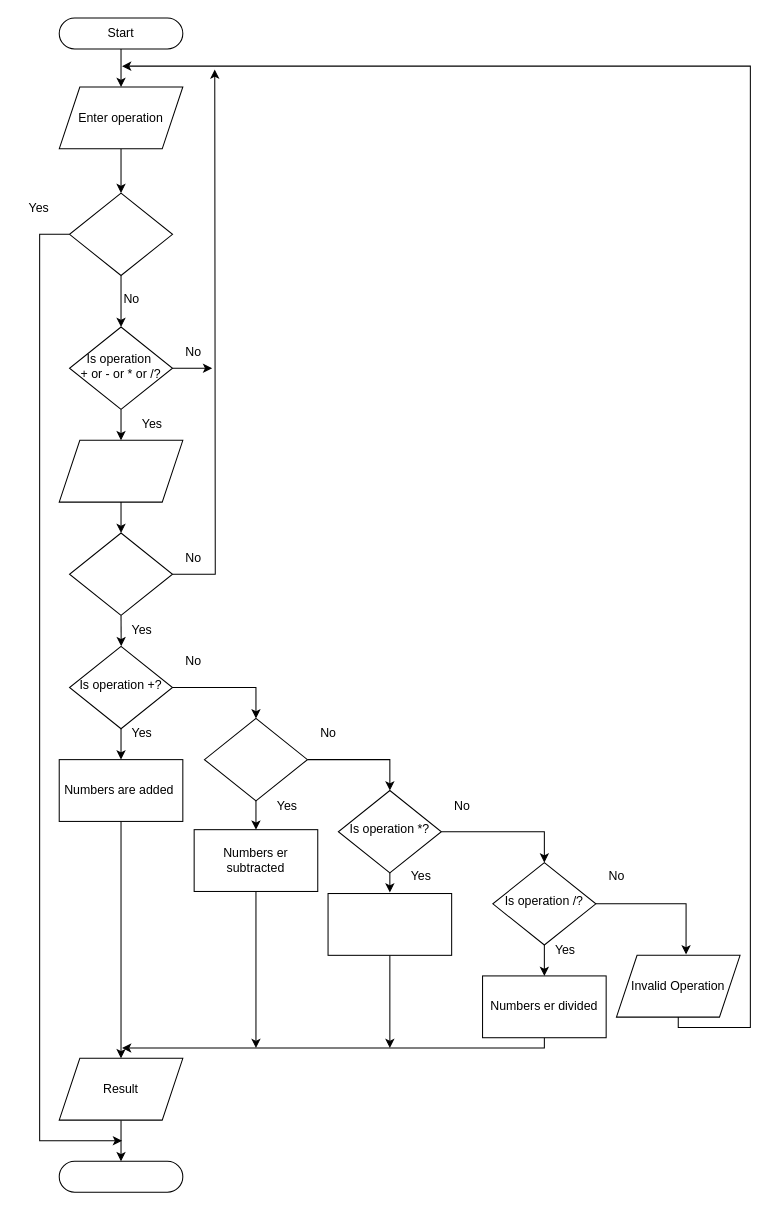
This 777x1210 diagram has some shape labels left out. The shapes that lost their labels are listed below. From the top down, each one's centre as x and y in pixels, then its label:
At point (120, 234): "Is it exit?".
At point (120, 470): "Enter numbers".
At point (120, 573): "Is input_numbers numbers?".
At point (255, 759): "Is operation -?".
At point (389, 923): "Numbers er multiplied".
At point (120, 1176): "End".
